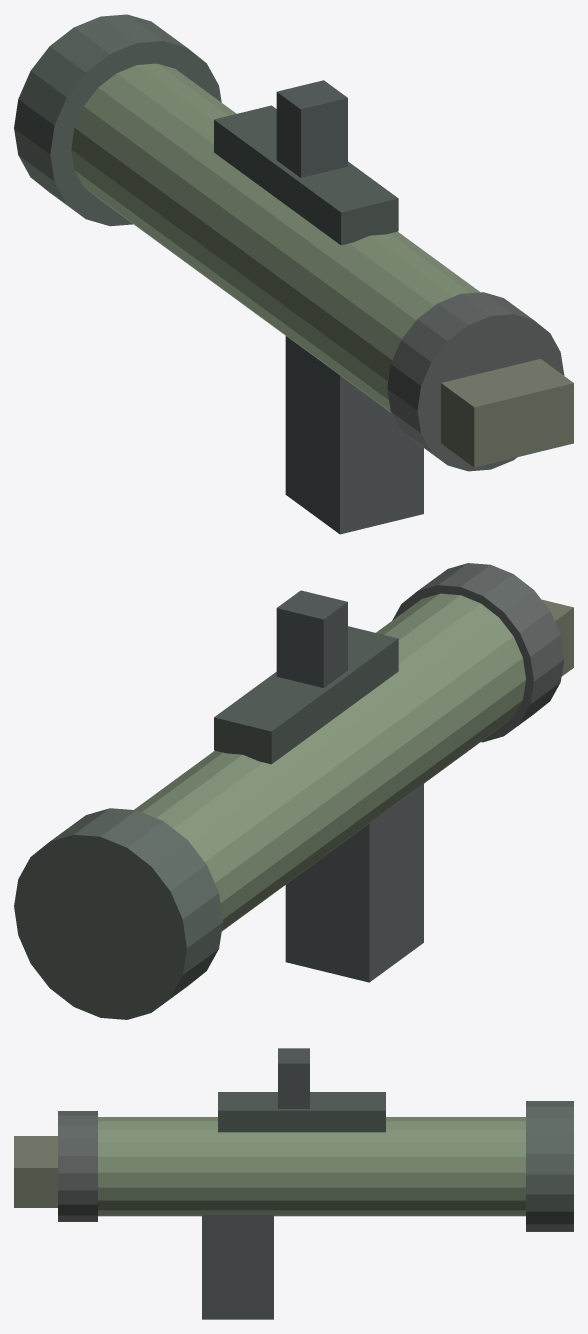
Rendered from wmk-bazuca.glb.
3 views of the same model, one above another, from view 1: azimuth 30°, elevation 25°; view 2: azimuth 150°, elevation 25°; view 3: azimuth 270°, elevation 25° (orthographic). The views are drawn at different scales.
Parts seen in each view (by area): view 1: tubo_oliva, empunhadura, anel_frente, anel_tras, ombro, trilho_mira, alca; view 2: tubo_oliva, anel_frente, empunhadura, trilho_mira, anel_tras, alca, ombro; view 3: tubo_oliva, empunhadura, trilho_mira, anel_frente, anel_tras, ombro, alca.
Boxes of the visible parts, box(x1,y1,x2,y2) form: tubo_oliva: box(71, 63, 479, 412); empunhadura: box(285, 336, 423, 534); anel_frente: box(14, 14, 221, 226); anel_tras: box(387, 292, 564, 471); ombro: box(441, 359, 573, 467); trilho_mira: box(214, 105, 398, 245); alca: box(276, 80, 347, 177); tubo_oliva: box(134, 593, 525, 930); anel_frente: box(14, 808, 223, 1019); empunhadura: box(285, 783, 423, 982); trilho_mira: box(214, 626, 398, 764); anel_tras: box(392, 563, 564, 742); alca: box(276, 590, 347, 687); ombro: box(542, 599, 573, 676); tubo_oliva: box(98, 1117, 525, 1216); empunhadura: box(202, 1214, 273, 1319); trilho_mira: box(218, 1092, 385, 1132); anel_frente: box(526, 1101, 573, 1231); anel_tras: box(58, 1111, 97, 1221); ombro: box(14, 1136, 57, 1207); alca: box(278, 1048, 309, 1108).
Bounding box in the file's own units: 0.33 × 0.69 × 1.4.
